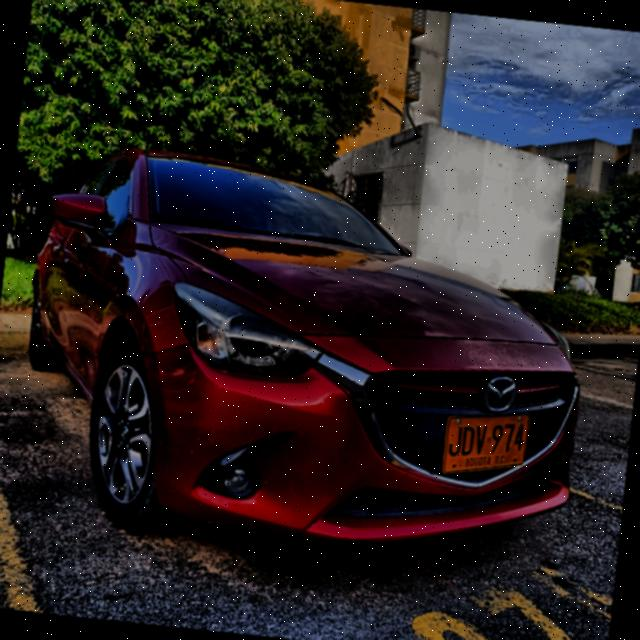plate: (443, 415, 528, 472)
